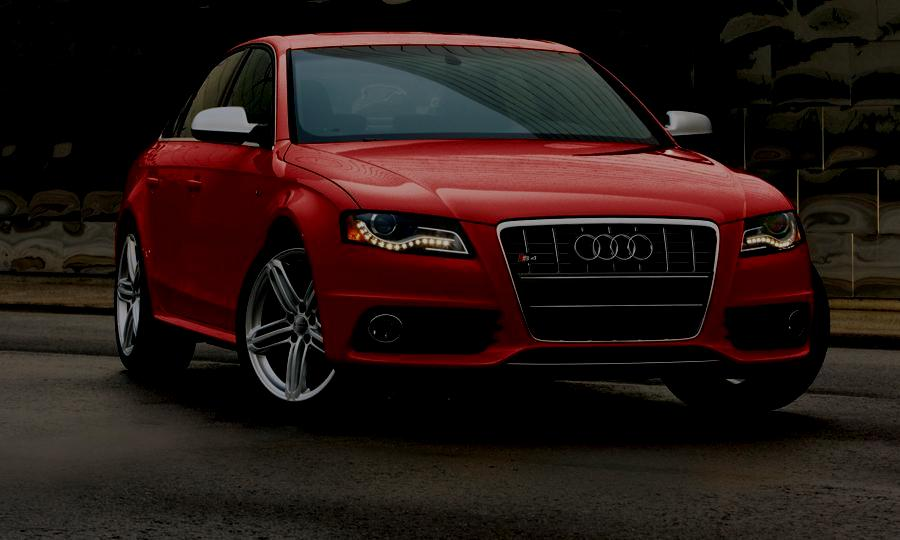Audi: (567, 225, 664, 272)
